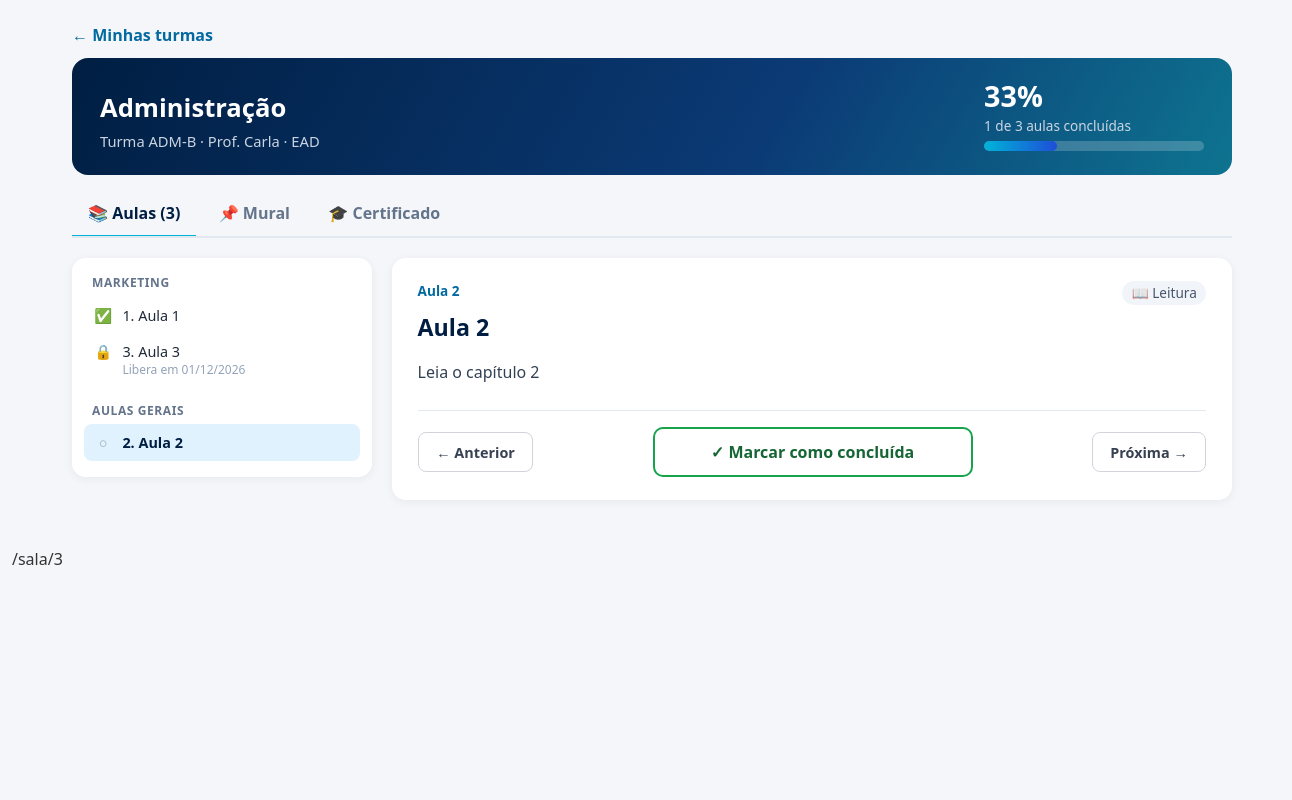
Test: marcar como concluída atualiza o progresso e comemora
Expected: the heading "Aula 2" is shown, [418,311,489,343]
Click the button "✓ Marcar como concluída" at point(812, 452), box [652,427,972,477]
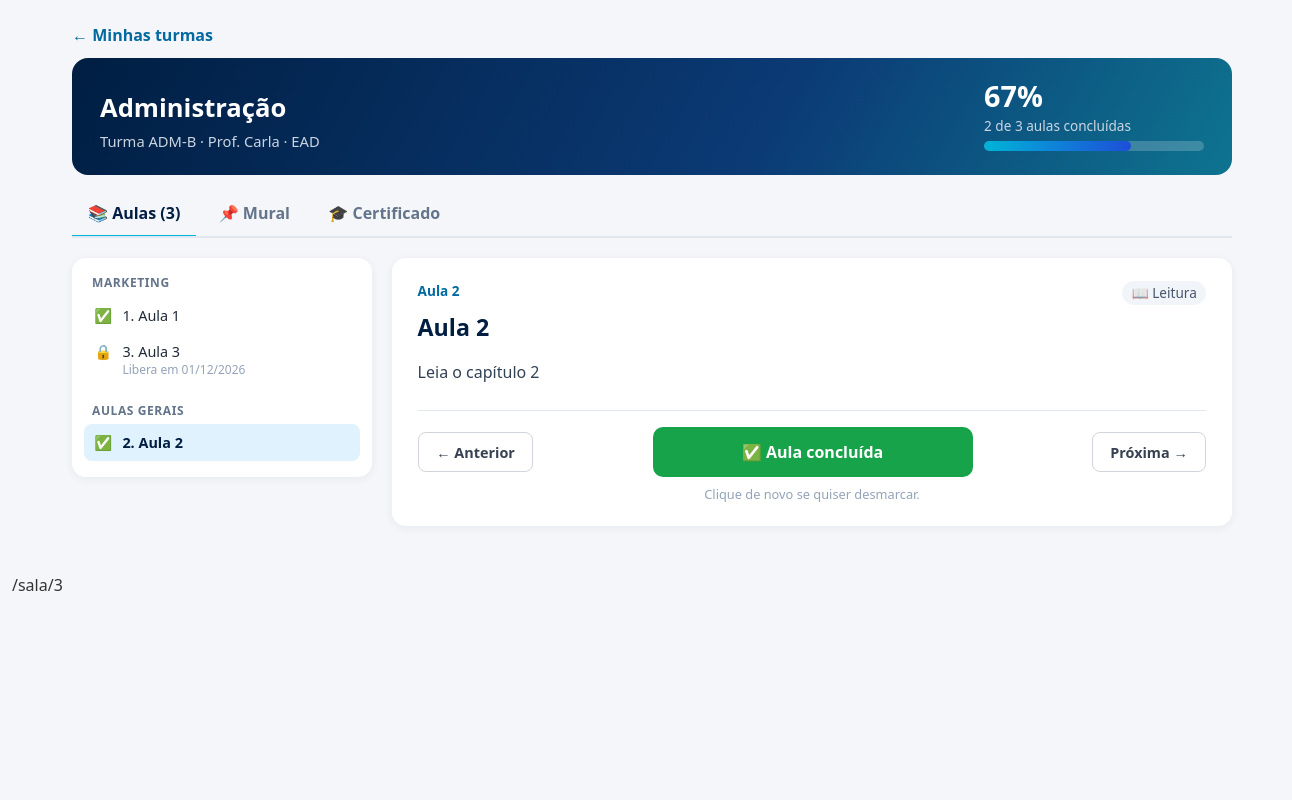
Now the text "67%" is shown, box [984,76,1043,115]
Now the text "Clique de novo se quiser desmarcar." is shown, box [704,485,920,503]
